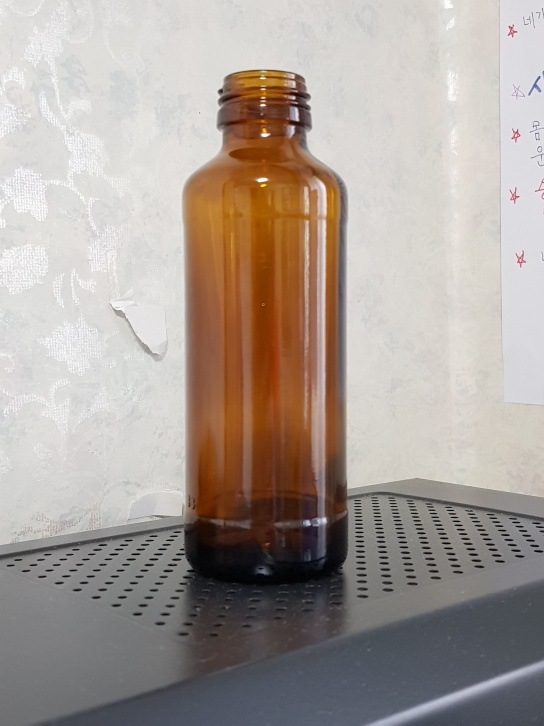Glass: (179, 66, 355, 586)
